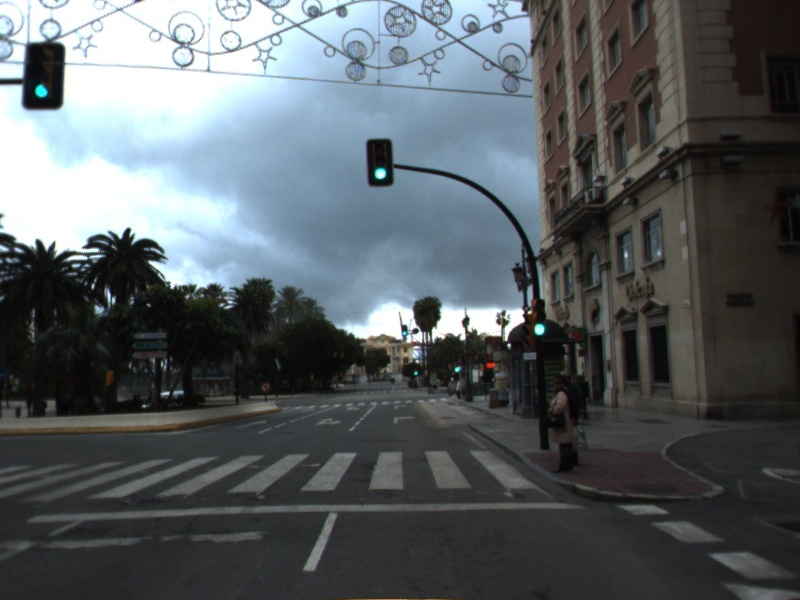RIGHT: (391, 413, 417, 425)
STRAIGHT: (234, 418, 269, 430)
STRAIGHT_RIGHT: (312, 415, 345, 427)
